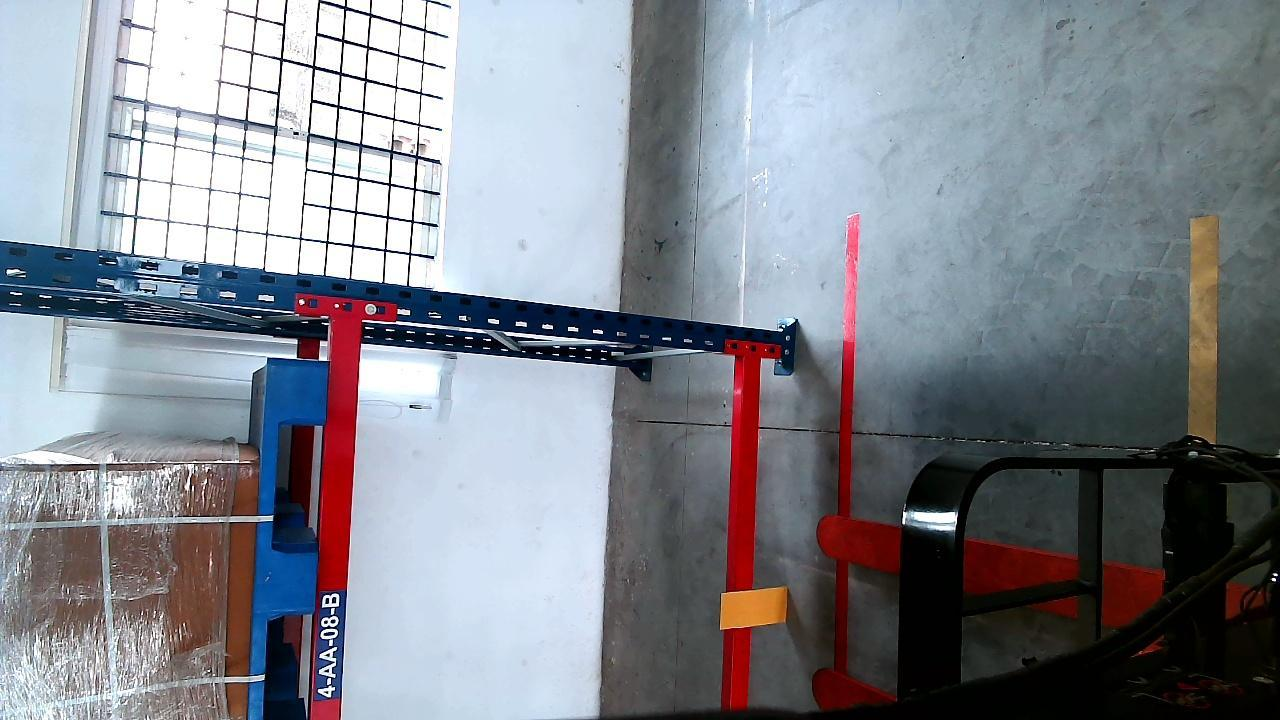red_line: (833, 215, 861, 673)
yellow_line: (1188, 210, 1219, 440)
